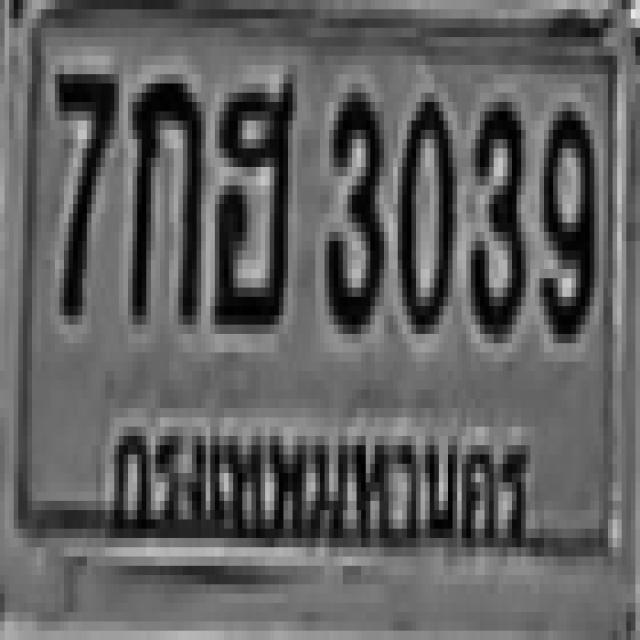0: (396, 93, 450, 324)
10GorGai: (128, 74, 197, 316)
3: (320, 83, 379, 324), (466, 98, 521, 330)
53HorNokHook: (210, 74, 293, 325)
7: (55, 65, 114, 315)
9: (537, 102, 592, 334)
Bangkok: (89, 386, 547, 583)
